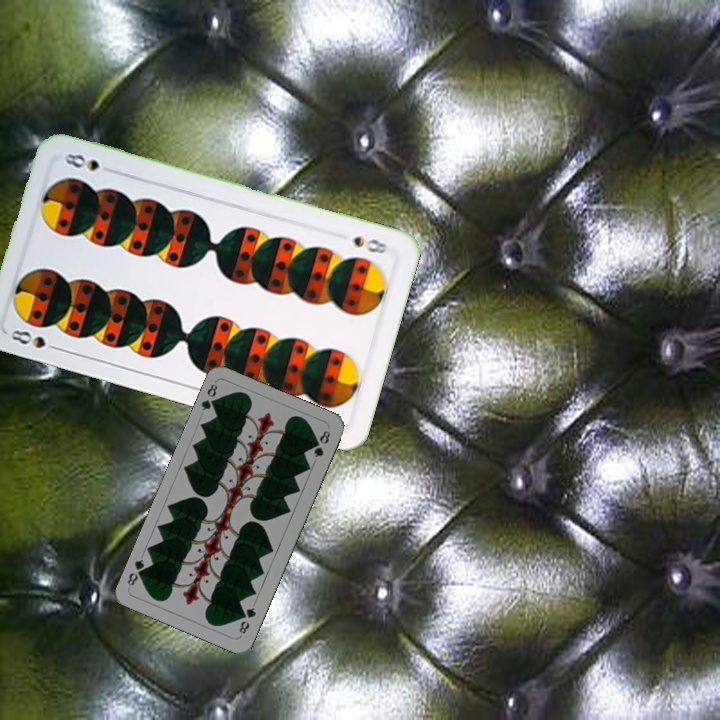G8: (197, 380, 222, 413), (235, 603, 259, 637)
S8: (7, 325, 64, 354), (349, 232, 391, 257)
